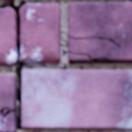brick: (22, 71, 131, 130), (68, 3, 131, 64), (0, 76, 17, 131)
broken_brick: (20, 4, 60, 63), (0, 8, 16, 66)
crack: (0, 1, 26, 130), (68, 36, 121, 48), (68, 51, 108, 61), (0, 107, 14, 123)
